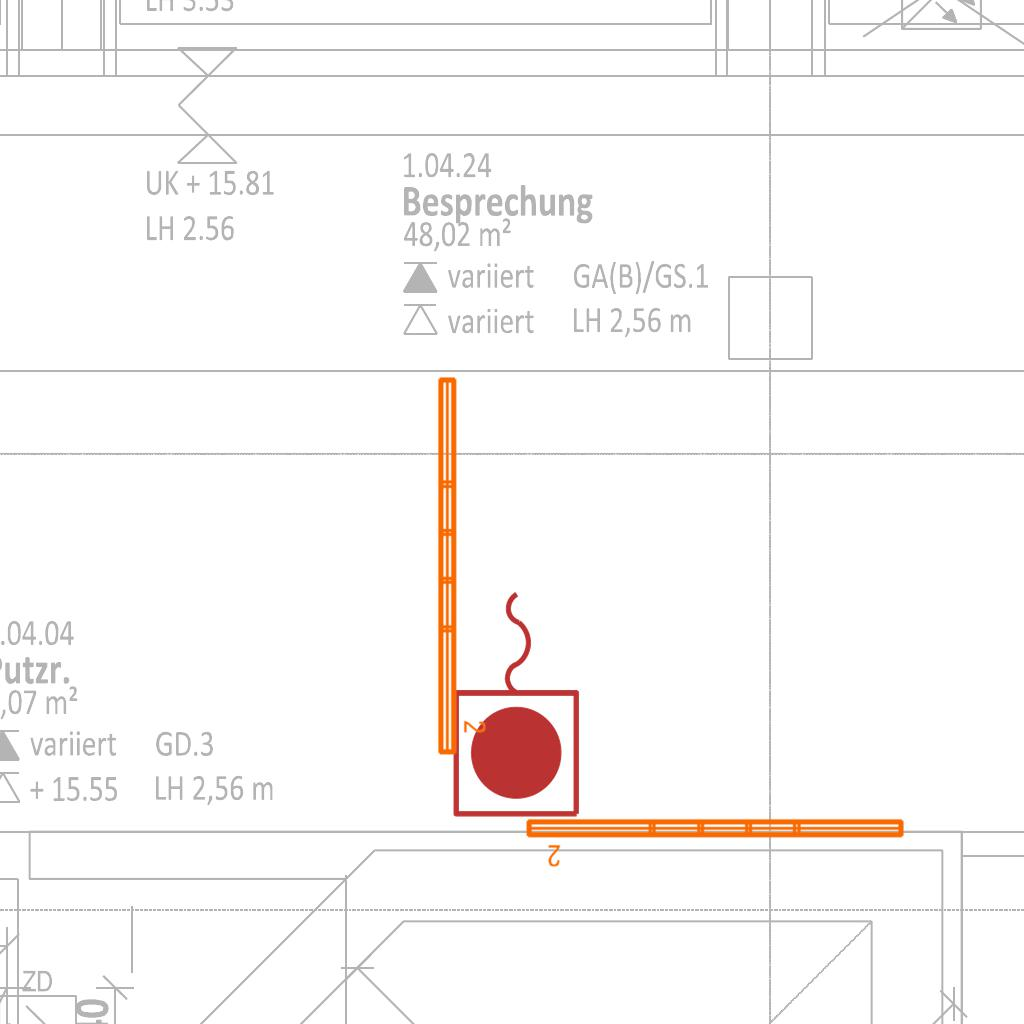Ambulanz_Pendelleuchte_LED: (522, 813, 909, 869), (432, 372, 488, 759)
Zugtaster: (446, 581, 590, 825)
